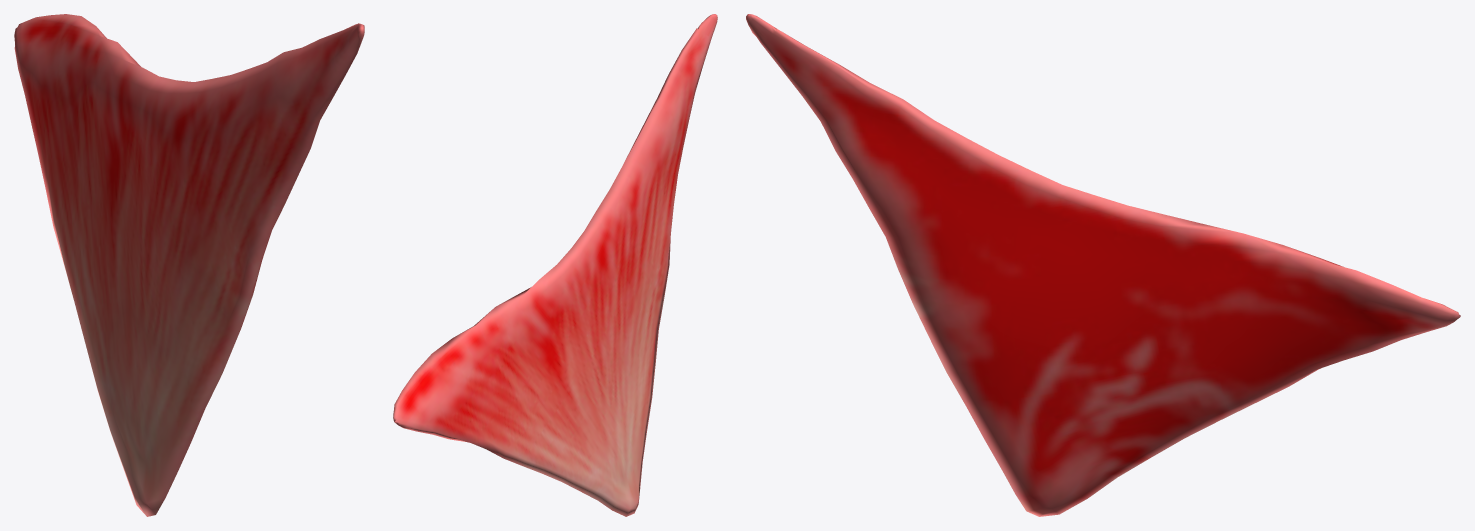
Rendered from Trapezius.glb.
3 views of the same model, side by side, from view 1: azimuth 30°, elevation 25°; view 2: azimuth 150°, elevation 25°; view 3: azimuth 270°, elevation 25° (orthographic). The views are drawn at different scales.
Parts seen in each view (by area): view 1: MuscleTrapezius2.007; view 2: MuscleTrapezius2.007; view 3: MuscleTrapezius2.007.
Boxes of the visible parts, bbox=[...] form: MuscleTrapezius2.007: bbox=[14, 14, 364, 516]; MuscleTrapezius2.007: bbox=[393, 14, 717, 516]; MuscleTrapezius2.007: bbox=[746, 14, 1460, 516].
Size of the model in its own units: 0.1217 by 0.5415 by 0.6697.
1 material, 1 textured.
